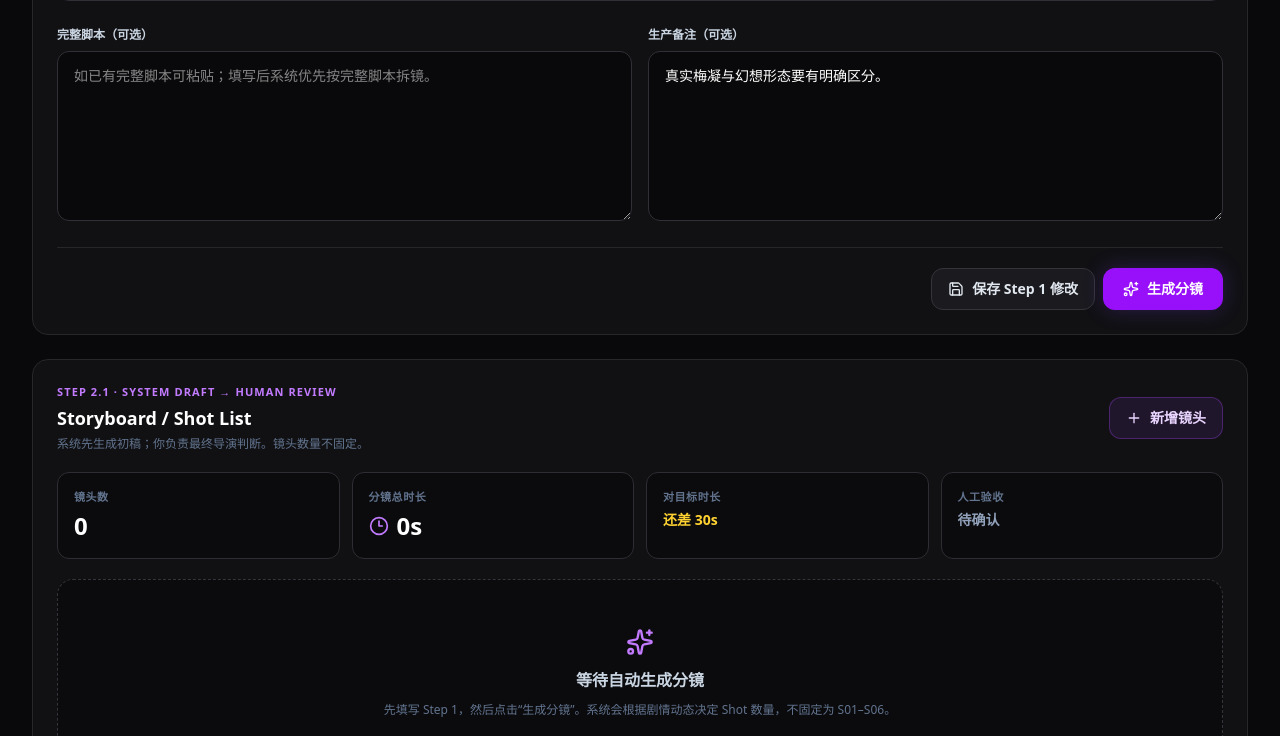
Test: AutoStoryboardDirectorPage Step 2.1 › requires explicit human confirmation and invalidates PASS after edits
This screenshot has width=1280, height=736.
(page scrolled)
Click the button "生成分镜". click: (1163, 288)
box: [1103,268,1223,310]
(page scrolled)
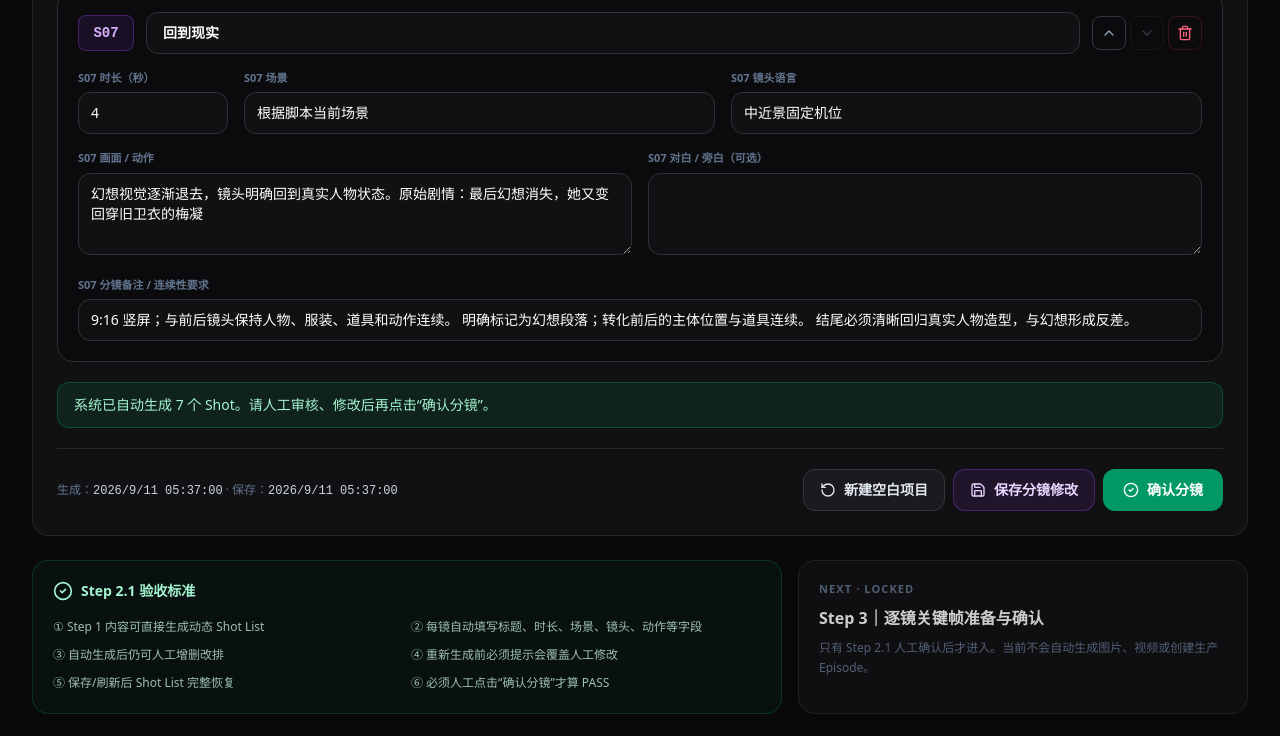
Click the button "确认分镜". click: (1163, 490)
box: [1103,469,1223,511]
(page scrolled)
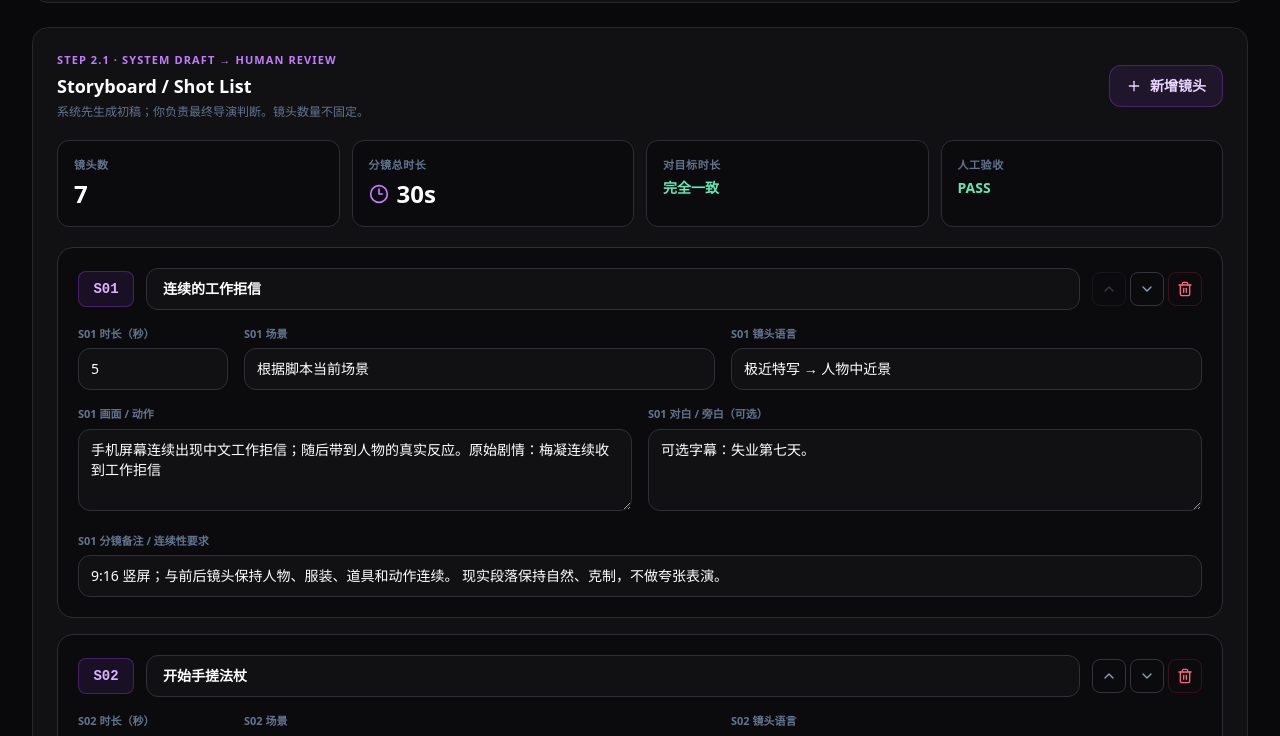
Check: the text with test id "storyboard-approval-status" reads "PASS", box [958,178,991,196]
Replace the text in the 1st field named "S01 标题" with "确认后又修改". click: (613, 288)
box: [146,268,1080,310]
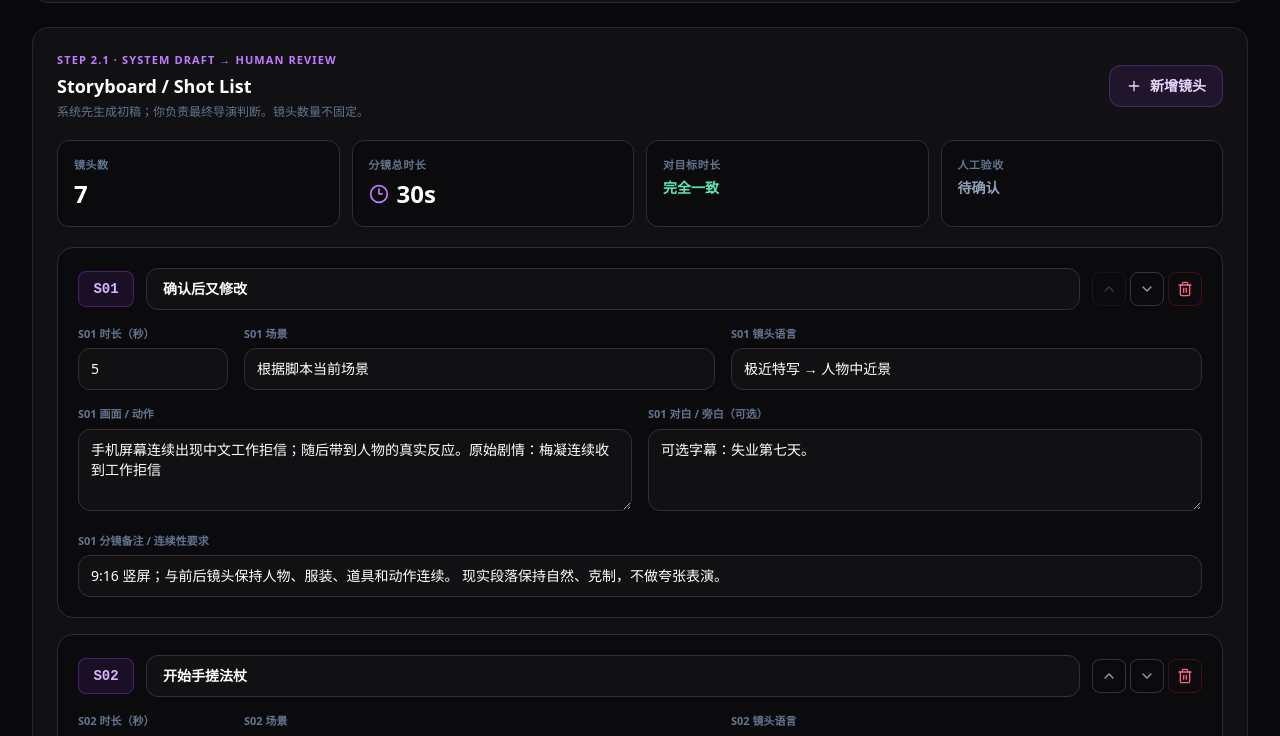
Check: the text with test id "storyboard-approval-status" reads "待确认", box [958,178,1000,196]
